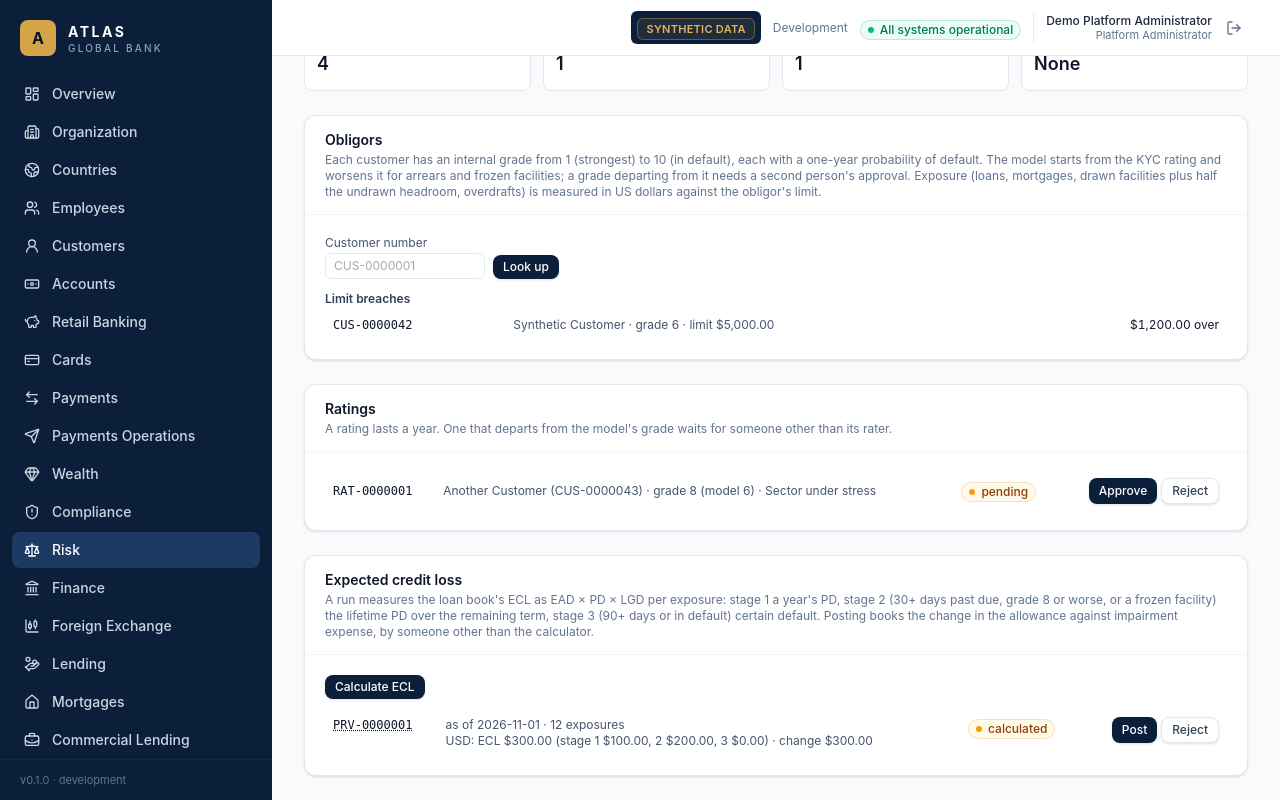
Test: Risk page › shows the summary, breaches, ratings and provision runs
(page scrolled)
Expected: the table named "Limit breaches" shows "Synthetic Customer · grade 6 · limit $5,000.00", [325,311,1227,339]
Expected: the table named "Ratings" shows "Another Customer (CUS-0000043) · grade 8 (model 6) · Sector under stress", [325,472,1227,510]
Click the button with aria-label "Lines of PRV-0000001" at (373, 725), box [333,717,412,733]
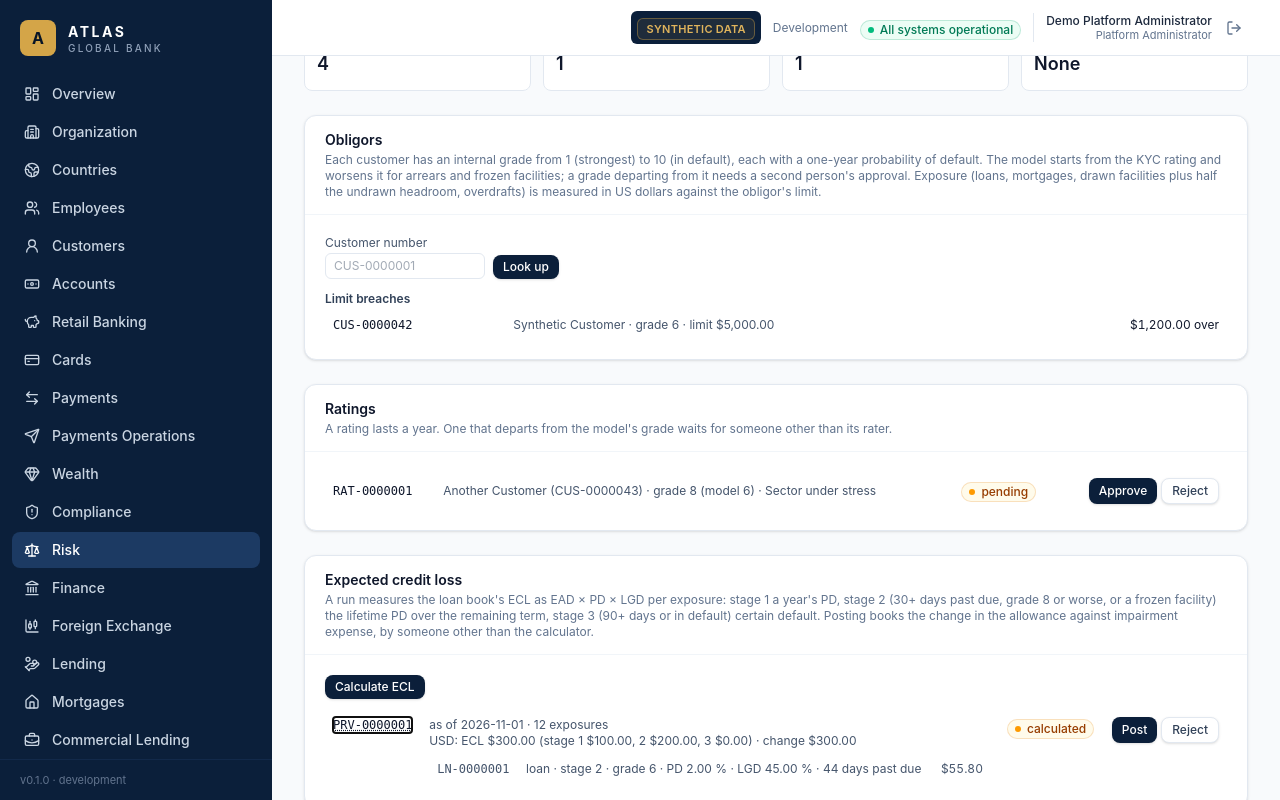
Expected: the table named "Provision lines" shows "loan · stage 2 · grade 6 · PD 2.00 % · LGD 45.00 % · 44 days past due", [429,757,991,781]
